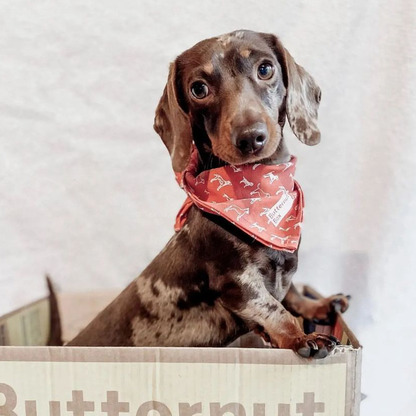dachshund: (100, 28, 385, 356)
